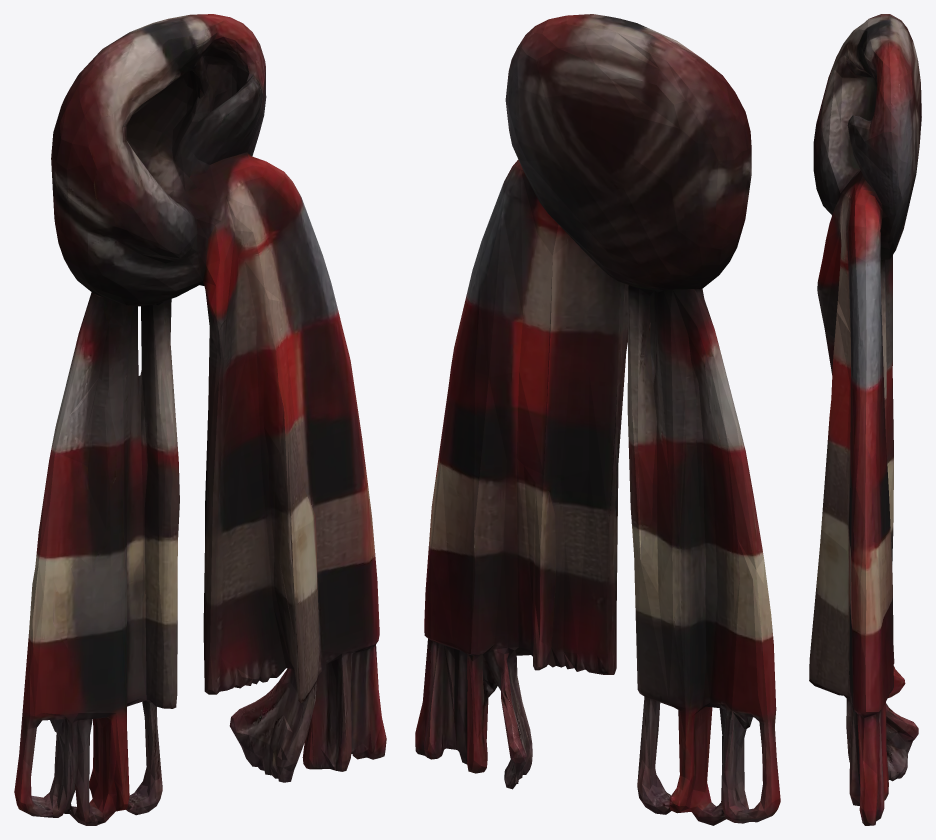
3 renders of one model, left to right at view 1: azimuth 30°, elevation 25°; view 2: azimuth 150°, elevation 25°; view 3: azimuth 270°, elevation 25°, orthographic. The views are drawn at different scales.
Parts seen in each view (by area): view 1: geometry_0; view 2: geometry_0; view 3: geometry_0.
Part boxes in pixels (x1,y1,x2,y2): geometry_0: (14,14,386,825); geometry_0: (415,14,780,825); geometry_0: (809,14,921,825).
Size of the model in its own units: 0.4906 by 0.9995 by 0.1445.
Materials: 1 (1 with a texture image).
